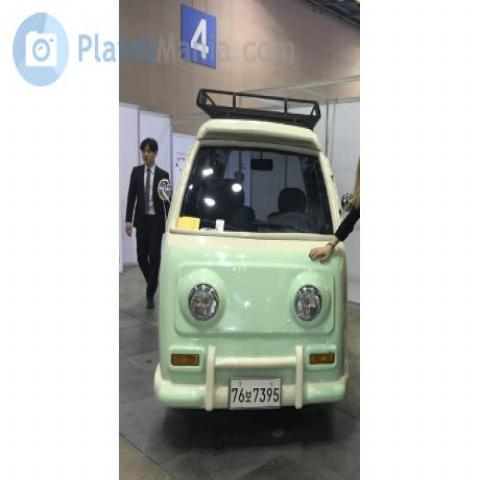LP: (228, 373, 286, 413)
